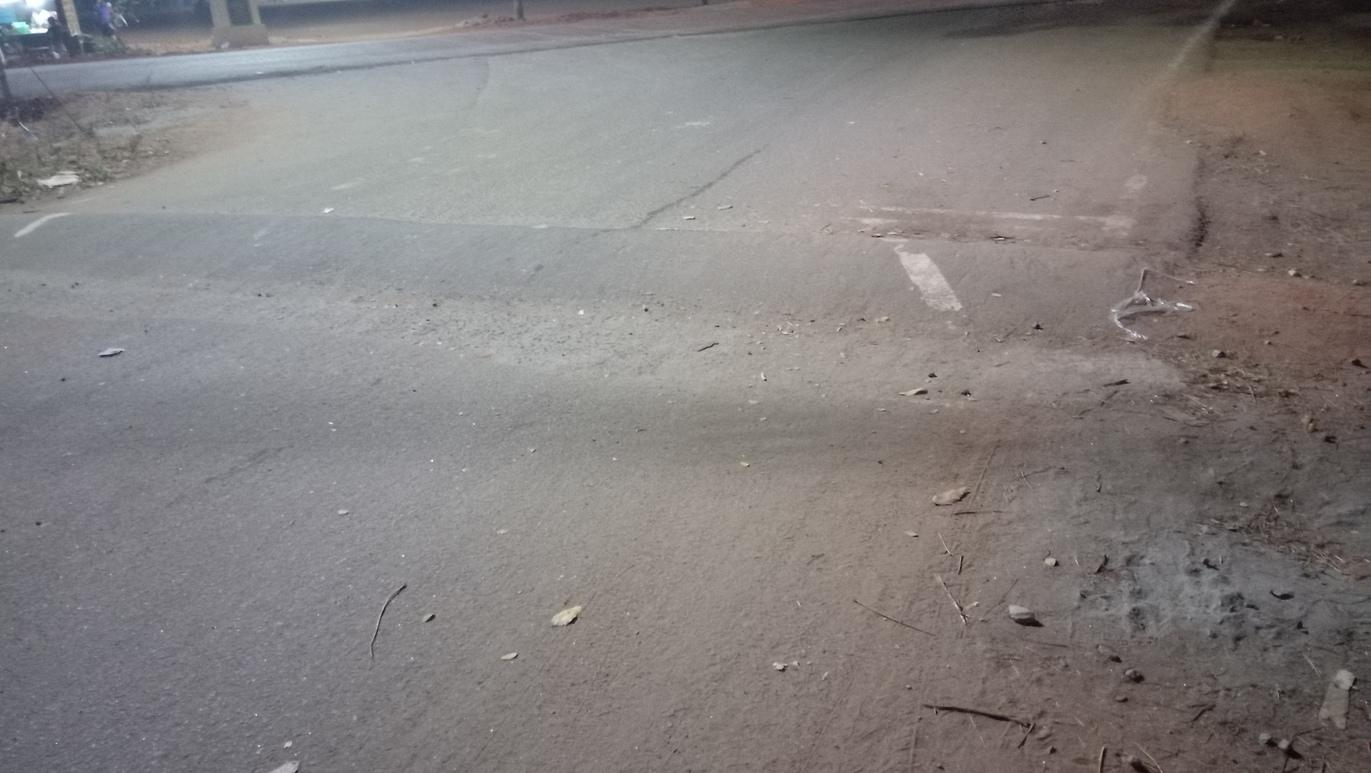speed-bump: (3, 203, 1167, 338)
